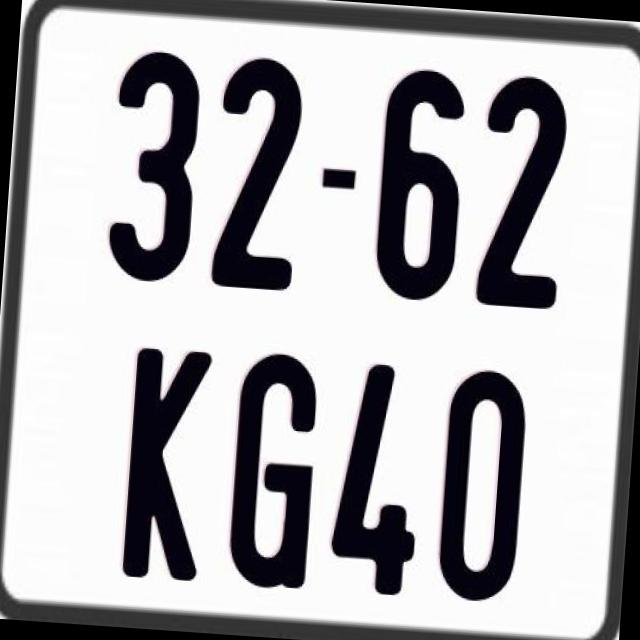0: (433, 366, 529, 608)
2: (208, 55, 308, 299), (470, 70, 570, 307)
3: (105, 46, 204, 282)
4: (328, 357, 432, 596)
6: (370, 65, 466, 306)
G: (227, 347, 323, 586)
K: (121, 346, 215, 583)
